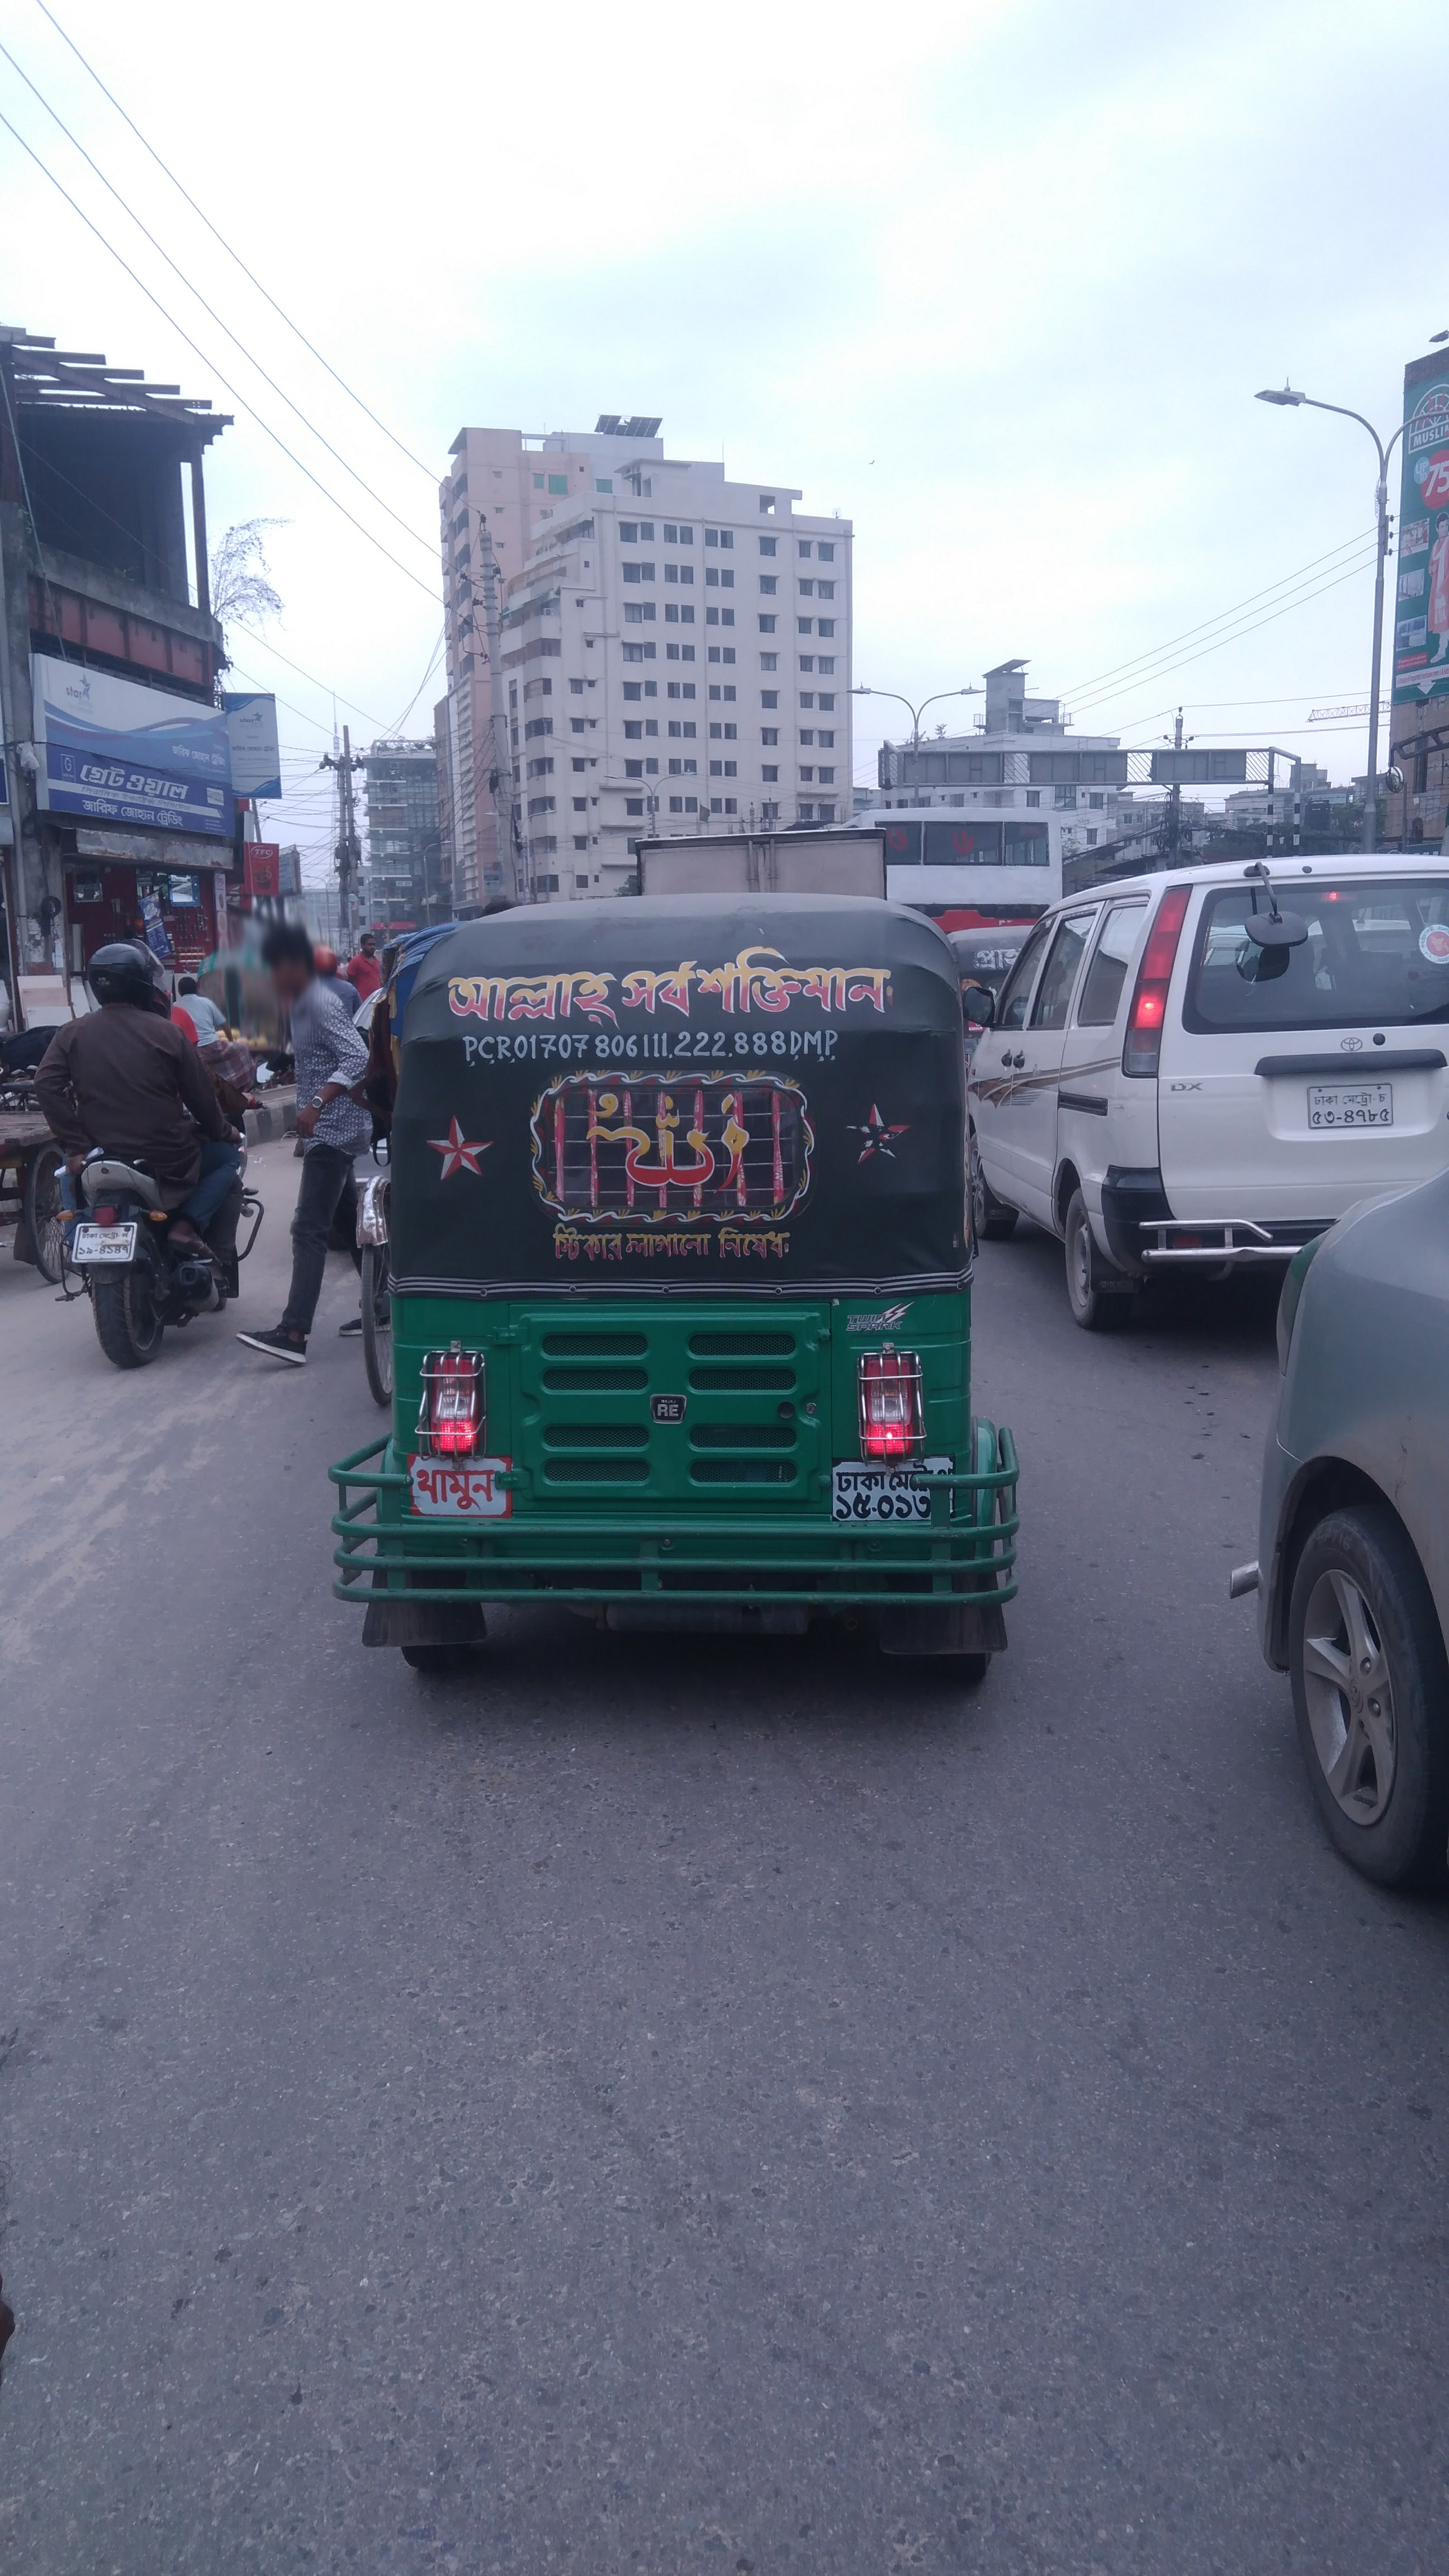bike: (62, 1054, 278, 1378)
car: (961, 853, 1449, 1313), (1219, 1150, 1449, 1886)
cng: (333, 902, 1024, 1690)
truck: (628, 819, 892, 899)
van: (0, 1118, 69, 1284)
